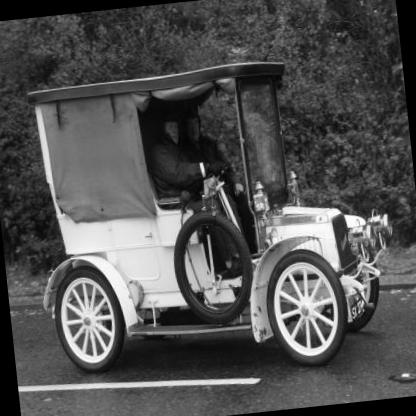car: (15, 33, 416, 394)
